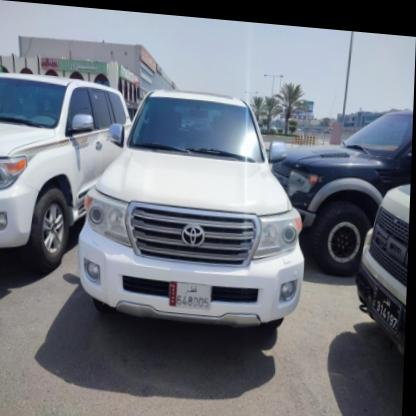np: (170, 277, 214, 304)
